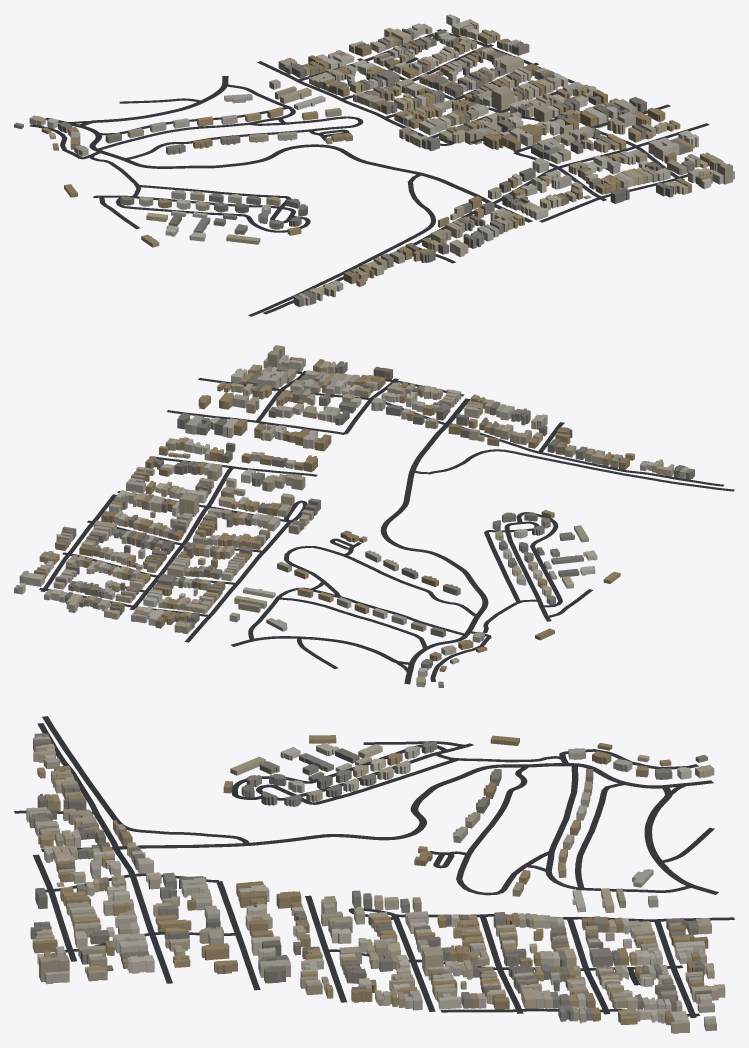
Rendered from tile_8_10.glb.
The picture shows the model from 3 angles, top to bottom: view 1: azimuth 30°, elevation 25°; view 2: azimuth 150°, elevation 25°; view 3: azimuth 270°, elevation 25°; orthographic projection. The views are drawn at different scales.
Visible parts, largest first — view 1: bld_8_10, road_8_10; view 2: bld_8_10, road_8_10; view 3: bld_8_10, road_8_10.
Boxes of the visible parts, x1=… form: bld_8_10: x1=14, y1=14, x2=734, y2=307; road_8_10: x1=29, y1=29, x2=709, y2=316; bld_8_10: x1=14, y1=345, x2=694, y2=687; road_8_10: x1=39, y1=371, x2=734, y2=684; bld_8_10: x1=26, y1=733, x2=725, y2=1033; road_8_10: x1=14, y1=716, x2=734, y2=1017.
Size of the model in its own units: 857 by 114 by 858.
